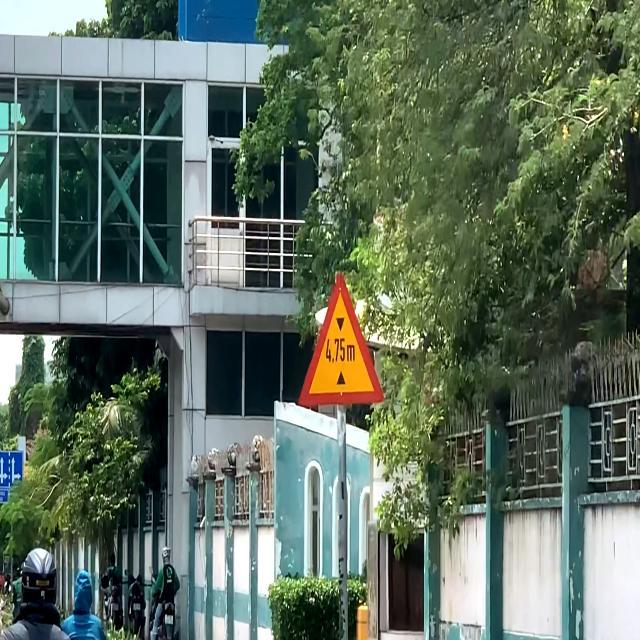W-239b: (296, 274, 383, 404)
